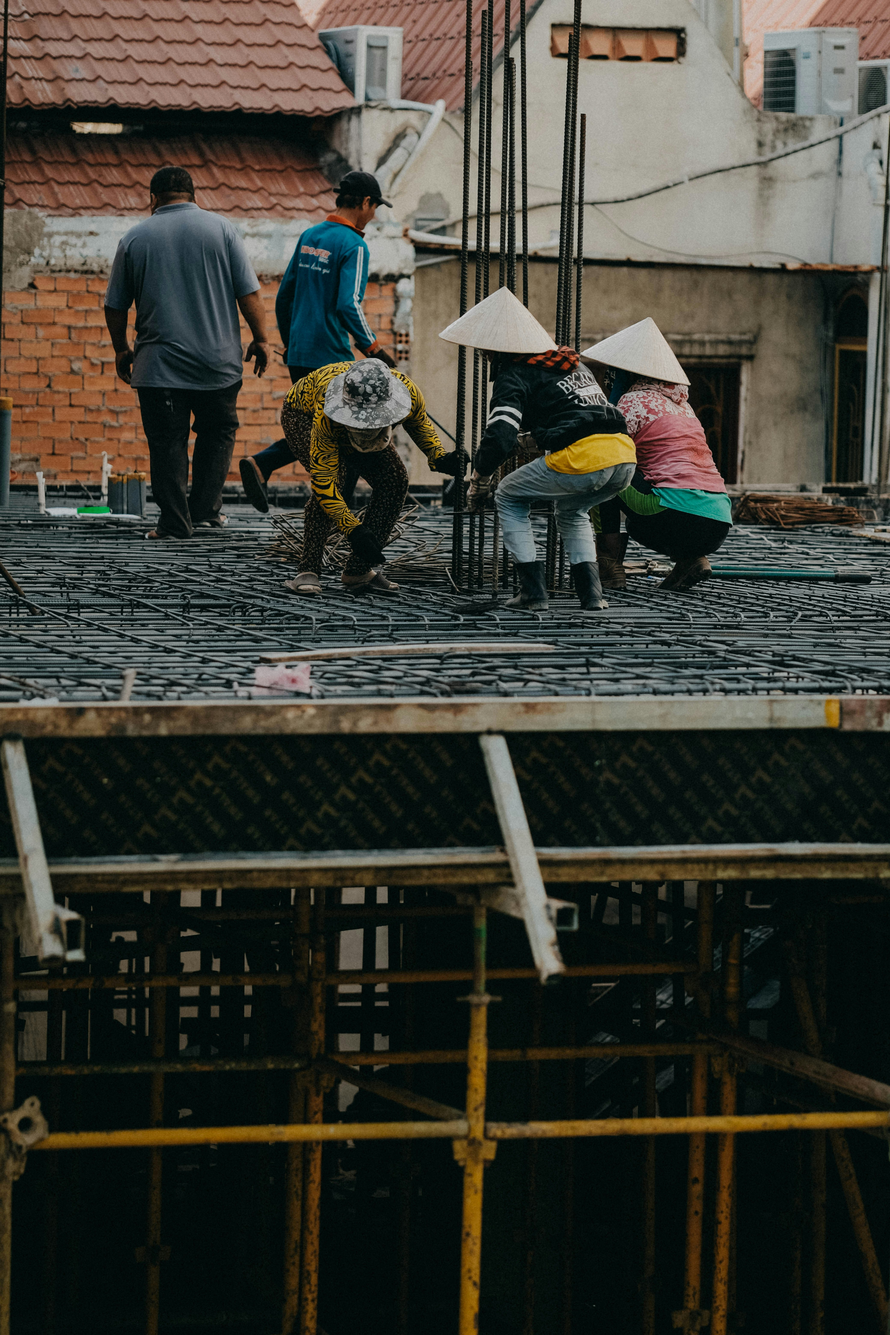No_Helmet: (328, 172, 389, 227), (150, 166, 195, 212)
